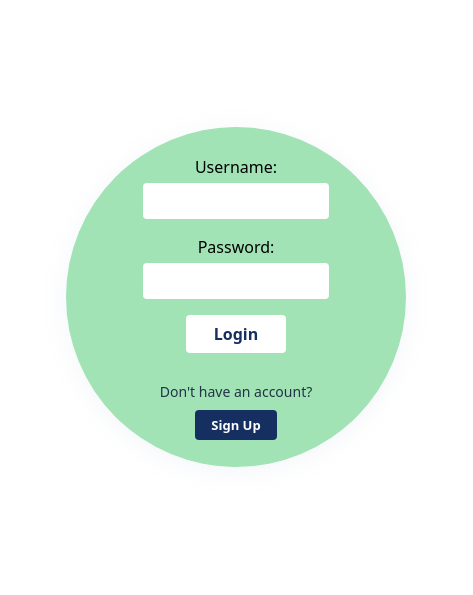
Scenario: App Component › Sign-up Form › should render sign-up form after clicking Sign Up button
Click the button "Sign Up" at (236, 424), box [195,410,277,440]
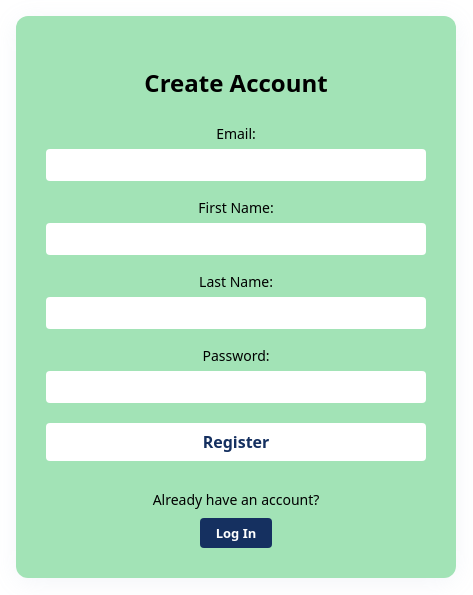
Check: the heading "Create Account" is shown, box [144,66,328,102]
Check: the text "Email:" is shown, box [216,124,256,144]
Check: the text "First Name:" is shown, box [198,198,274,218]
